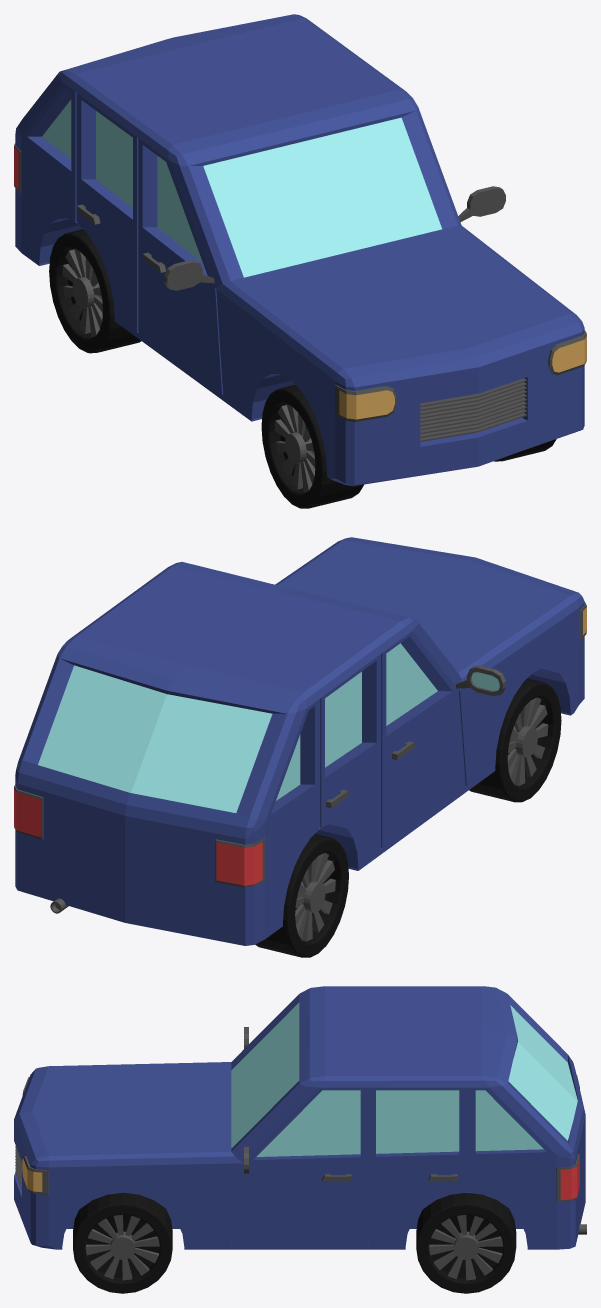
The model's file is car_model.glb.
The picture shows the model from 3 angles, top to bottom: view 1: azimuth 30°, elevation 25°; view 2: azimuth 150°, elevation 25°; view 3: azimuth 270°, elevation 25°; orthographic projection. The views are drawn at different scales.
Parts seen in each view (by area): view 1: Object_5, Object_6, Object_3, Object_2, Object_4; view 2: Object_5, Object_6, Object_2, Object_3, Object_7; view 3: Object_5, Object_6, Object_2, Object_3, Object_7, Object_4.
Part boxes in pixels (x1=…): Object_5: x1=15, y1=14, x2=584, y2=486; Object_6: x1=42, y1=99, x2=441, y2=277; Object_3: x1=14, y1=143, x2=586, y2=492; Object_2: x1=49, y1=229, x2=556, y2=508; Object_4: x1=339, y1=336, x2=586, y2=419; Object_5: x1=15, y1=537, x2=584, y2=945; Object_6: x1=38, y1=643, x2=499, y2=812; Object_2: x1=255, y1=678, x2=561, y2=957; Object_3: x1=14, y1=602, x2=586, y2=941; Object_7: x1=14, y1=788, x2=262, y2=885; Object_5: x1=14, y1=986, x2=585, y2=1249; Object_6: x1=231, y1=1002, x2=577, y2=1156; Object_2: x1=73, y1=1192, x2=516, y2=1293; Object_3: x1=15, y1=1027, x2=586, y2=1280; Object_7: x1=560, y1=1156, x2=579, y2=1200; Object_4: x1=22, y1=1158, x2=42, y2=1192.
Size of the model in its own units: 2.24 by 1.69 by 4.05.
